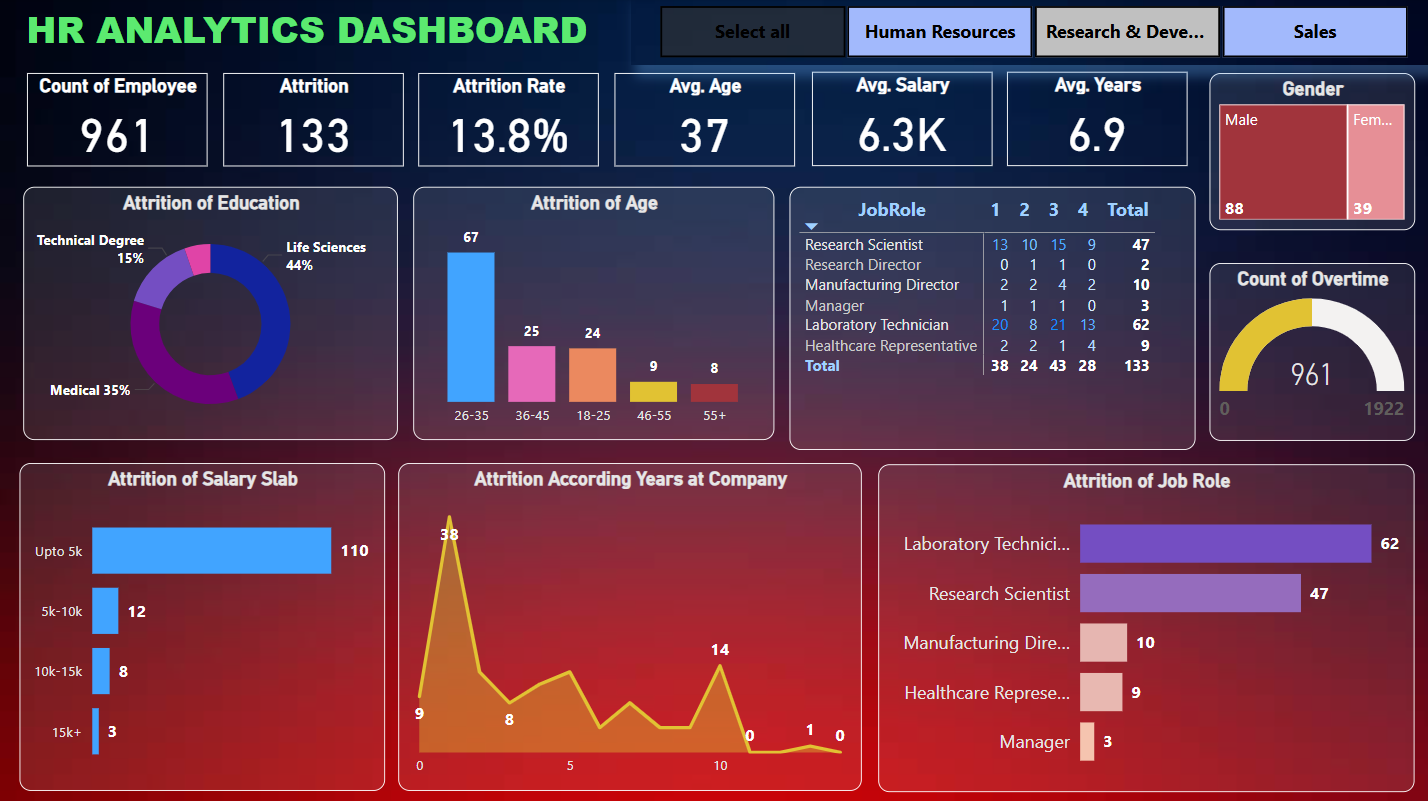

The dashboard page shown, as its layout file describes it:
{"tool":"powerbi","page":{"name":"Page 1","canvas":[1280,720],"ordinal":0},"visuals":[{"type":"card","title":"Count of Employee","fields":{"Values":["CountNonNull(HR_Analytics.EmpID)"]},"box":[26.3,66.4,160.8,83.2],"z":0},{"type":"card","title":"Attrition","fields":{"Values":["Sum(HR_Analytics.AttritionCount)"]},"box":[201.4,66.4,160.8,83.2],"z":1000},{"type":"card","title":"Attrition Rate","fields":{"Values":["HR_Analytics.AttritionRate"]},"box":[375.1,66.4,160.8,83.2],"z":2000},{"type":"card","title":"Avg. Age","fields":{"Values":["Avg(HR_Analytics.Age)"]},"box":[550.2,66.4,160.8,83.2],"z":3000},{"type":"card","title":"Avg. Salary","fields":{"Values":["Avg(HR_Analytics.MonthlyIncome)"]},"box":[725.4,66.2,160.5,83.7],"z":4000},{"type":"card","title":"Avg. Years","fields":{"Values":["Avg(HR_Analytics.YearsAtCompany)"]},"box":[899.7,66.2,160.5,83.7],"z":5000},{"type":"donutChart","title":"Attrition of Education","fields":{"Category":["HR_Analytics.EducationField"],"Y":["Sum(HR_Analytics.AttritionCount)"]},"box":[23.3,168.1,333.7,225.8],"z":6000},{"type":"columnChart","title":"Attrition of Age","fields":{"Category":["HR_Analytics.AgeGroup"],"Y":["Sum(HR_Analytics.AttritionCount)"]},"box":[370.6,168.1,321.5,225.8],"z":7000},{"type":"pivotTable","fields":{"Rows":["HR_Analytics.JobRole"],"Columns":["HR_Analytics.JobSatisfaction"],"Values":["Sum(HR_Analytics.AttritionCount)"]},"box":[705.5,168.1,362,234.4],"z":8000},{"type":"clusteredBarChart","title":"Attrition of Salary Slab","fields":{"Category":["HR_Analytics.SalarySlab"],"Y":["Sum(HR_Analytics.AttritionCount)"]},"box":[20.4,414.2,325.3,291.9],"z":9000},{"type":"clusteredBarChart","title":"Attrition of Job Role","fields":{"Category":["HR_Analytics.JobRole"],"Y":["Sum(HR_Analytics.AttritionCount)"]},"box":[785.3,414.7,477.3,292],"z":10000},{"type":"areaChart","title":"Attrition According Years at Company","fields":{"Category":["HR_Analytics.YearsAtCompany"],"Y":["Sum(HR_Analytics.AttritionCount)"]},"box":[356.8,414.2,412.9,291.9],"z":11000},{"type":"treemap","title":"Gender","fields":{"Group":["HR_Analytics.Gender"],"Values":["Sum(HR_Analytics.AttritionCount)"]},"box":[1079.8,66.3,182.8,139.9],"z":12000},{"type":"gauge","title":"Count of Overtime","fields":{"Y":["CountNonNull(HR_Analytics.OverTime)"]},"box":[1079.8,235.6,182.8,158.3],"z":13000},{"type":"textbox","box":[20.9,0,554.6,61.4],"z":14000},{"type":"slicer","fields":{"Values":["HR_Analytics.Department"]},"box":[564.4,0,715.9,59.8],"z":15000}]}

Visuals, with their boxes in screenshot pixels (x1, y1, x2, y2), scaled from the page's 1280x720 canvas onto the 1428x801 screenshot:
"Count of Employee" card: bbox(29, 74, 209, 166)
"Attrition" card: bbox(225, 74, 404, 166)
"Attrition Rate" card: bbox(418, 74, 598, 166)
"Avg. Age" card: bbox(614, 74, 793, 166)
"Avg. Salary" card: bbox(809, 74, 988, 167)
"Avg. Years" card: bbox(1004, 74, 1183, 167)
"Attrition of Education" donutChart: bbox(26, 187, 398, 438)
"Attrition of Age" columnChart: bbox(413, 187, 772, 438)
pivotTable - HR_Analytics.JobRole x HR_Analytics.JobSatisfaction: bbox(787, 187, 1191, 448)
"Attrition of Salary Slab" clusteredBarChart: bbox(23, 461, 386, 786)
"Attrition of Job Role" clusteredBarChart: bbox(876, 461, 1409, 786)
"Attrition According Years at Company" areaChart: bbox(398, 461, 859, 786)
"Gender" treemap: bbox(1205, 74, 1409, 229)
"Count of Overtime" gauge: bbox(1205, 262, 1409, 438)
textbox: bbox(23, 0, 642, 68)
slicer - HR_Analytics.Department: bbox(630, 0, 1427, 67)
